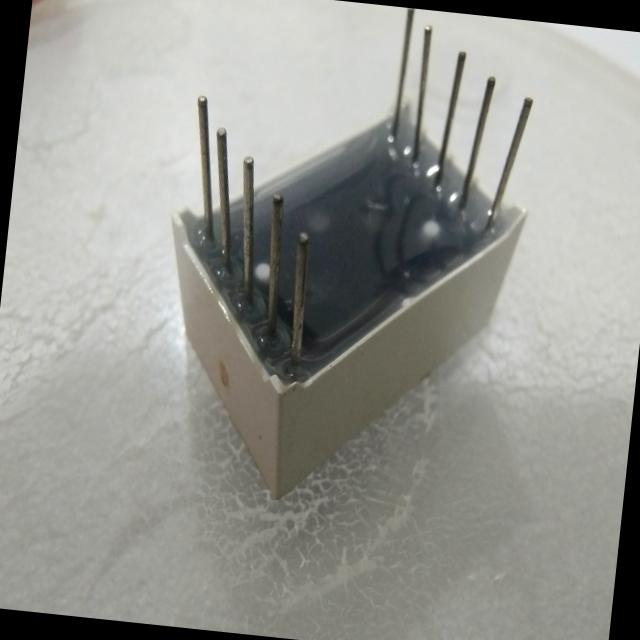7_segments: (109, 0, 553, 535)
